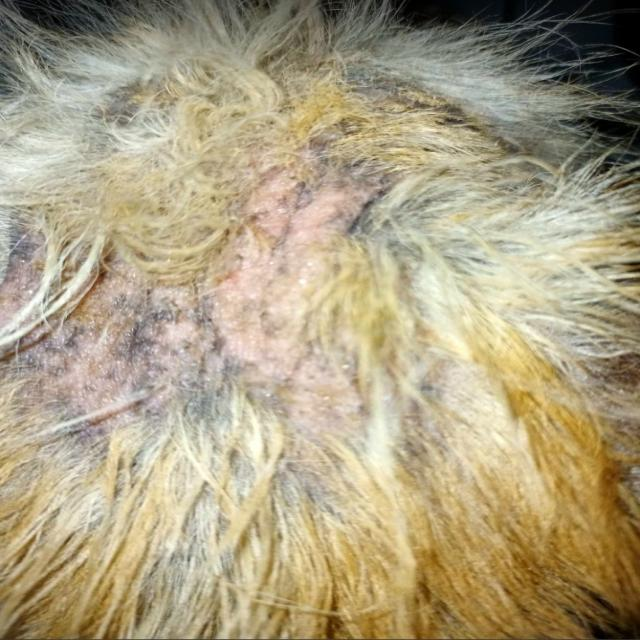demodicosis: (36, 166, 417, 453)
